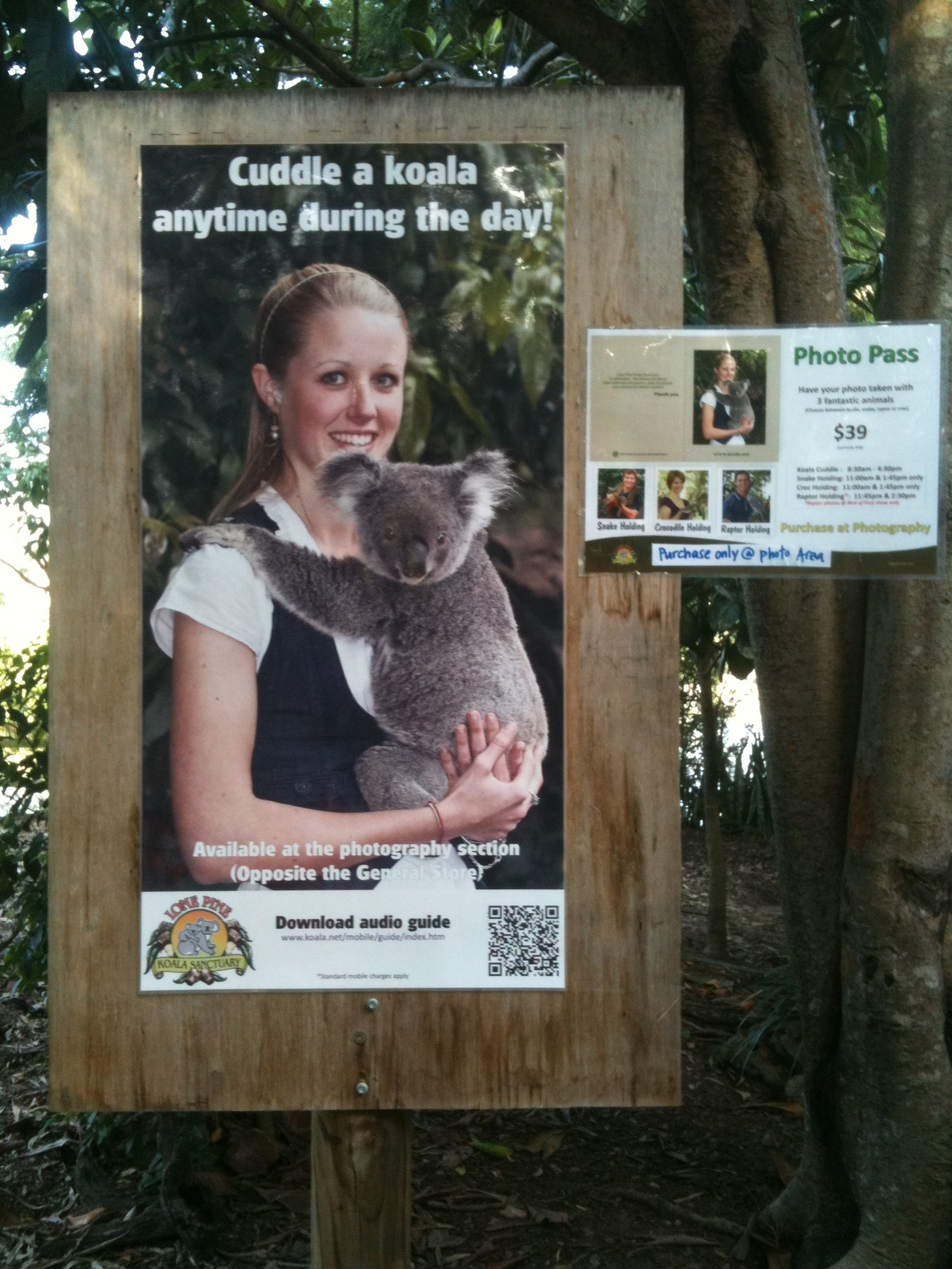QR-CODE: (488, 905, 559, 976)
